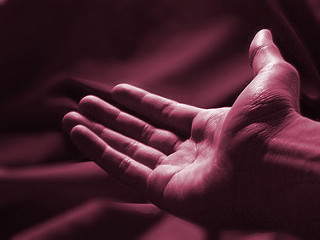palm: (168, 110, 263, 204)
